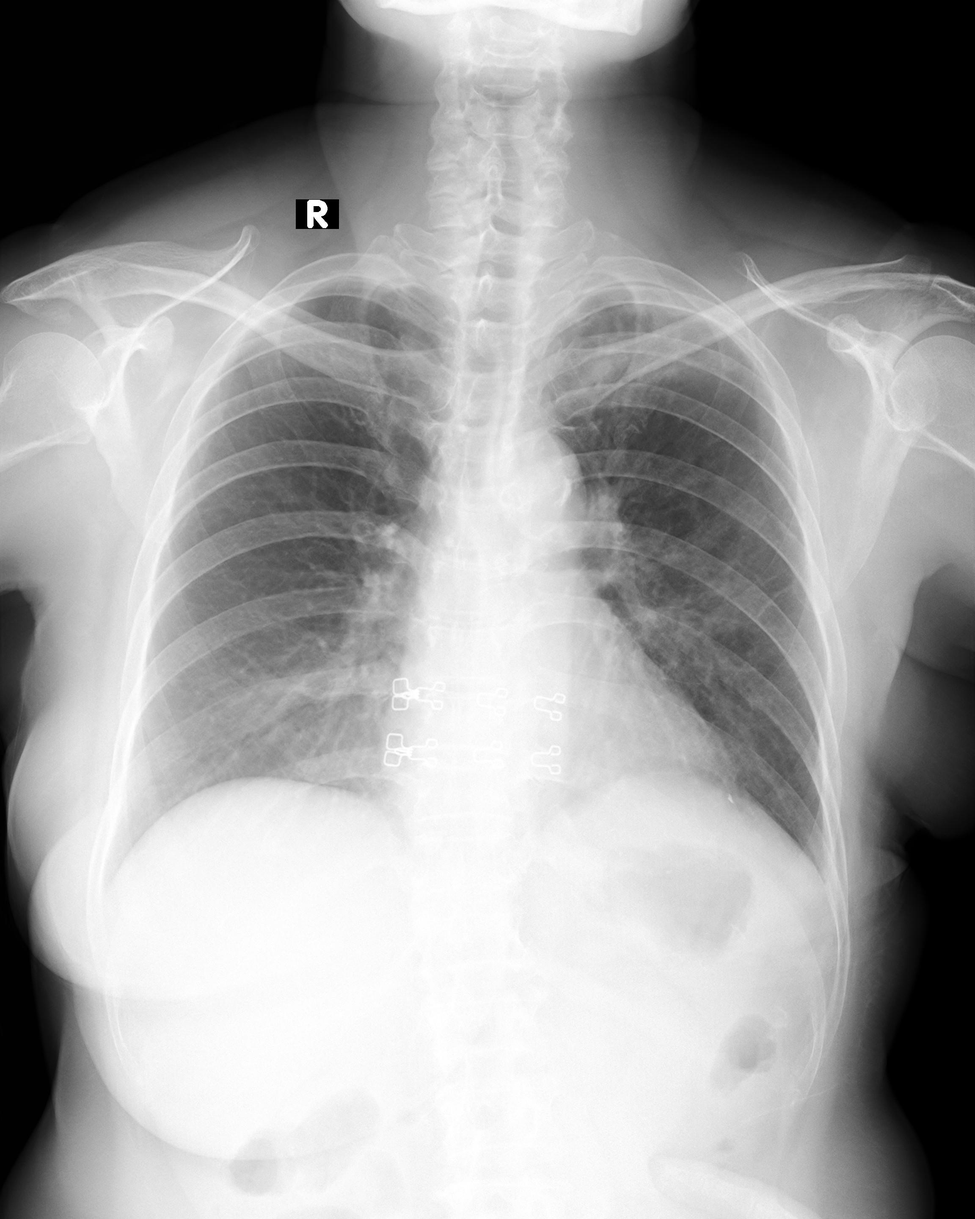Aortic enlargement: (485, 428, 585, 542)
Pulmonary fibrosis: (535, 300, 756, 480), (744, 580, 813, 634)
